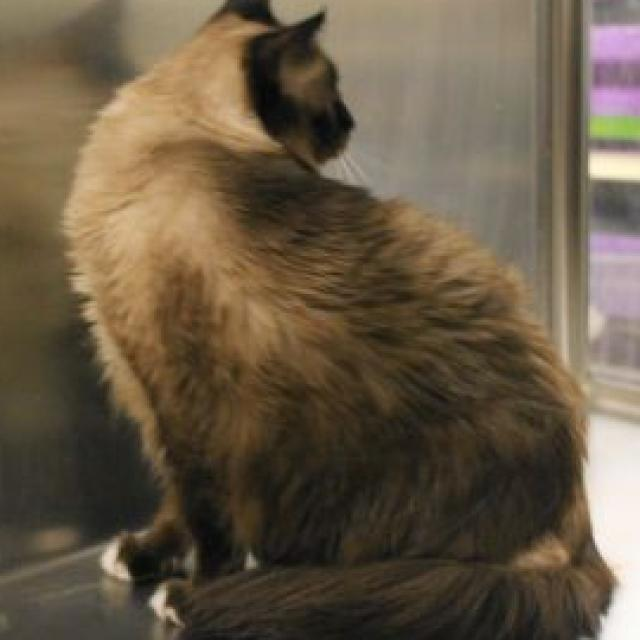Birman: (55, 0, 621, 640)
